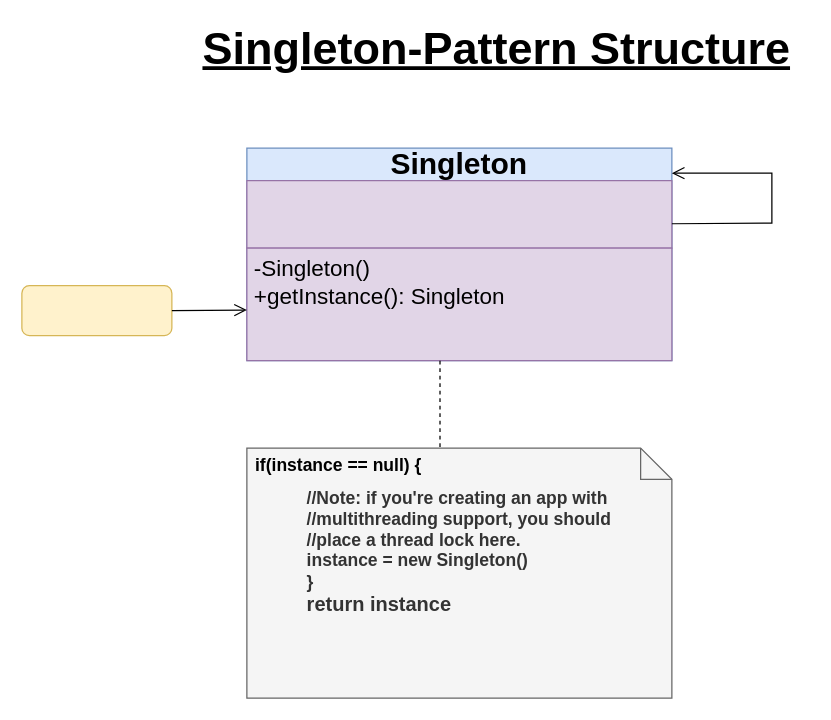
Some shapes in this 831 by 720 pixel diagram are drawn without their labels. The box of each missing label's shape, as (x1, y1, x2, y2) in pixels:
+ Instance: Singleton: (246, 179, 672, 248)
Client: (21, 284, 172, 336)
